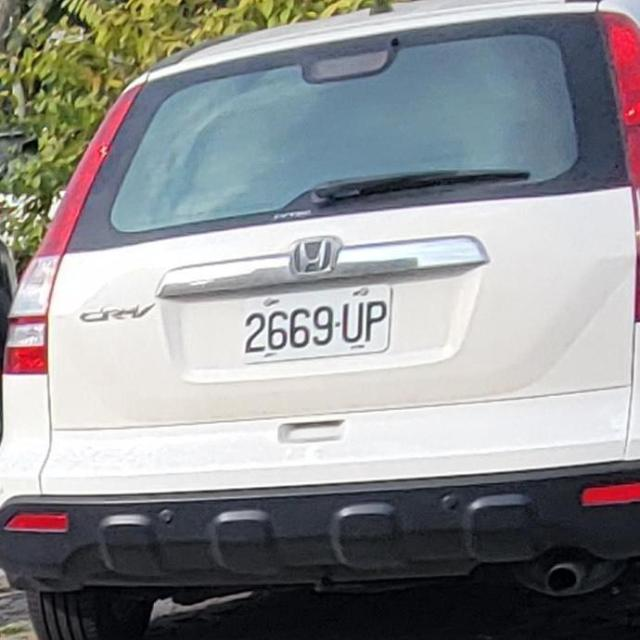W: (232, 272, 402, 373)
